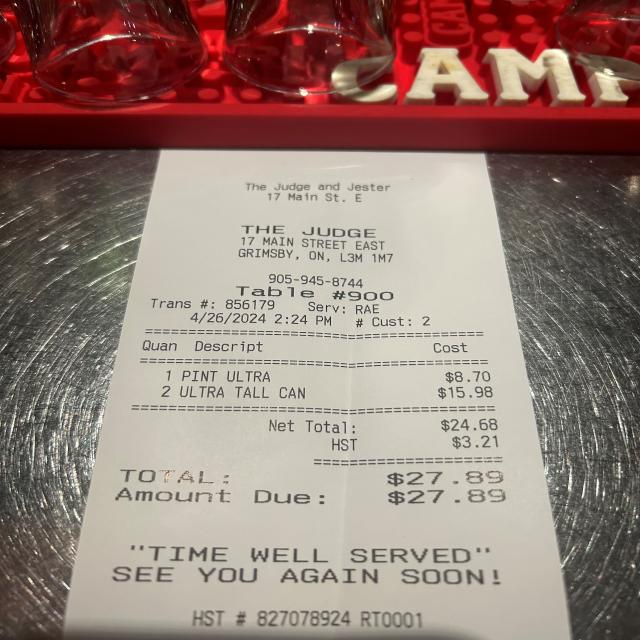item: (176, 381, 504, 406), (177, 364, 500, 386)
store_name: (233, 219, 387, 243)
total_amount: (111, 462, 517, 490)
transaction_date: (184, 306, 274, 331)
